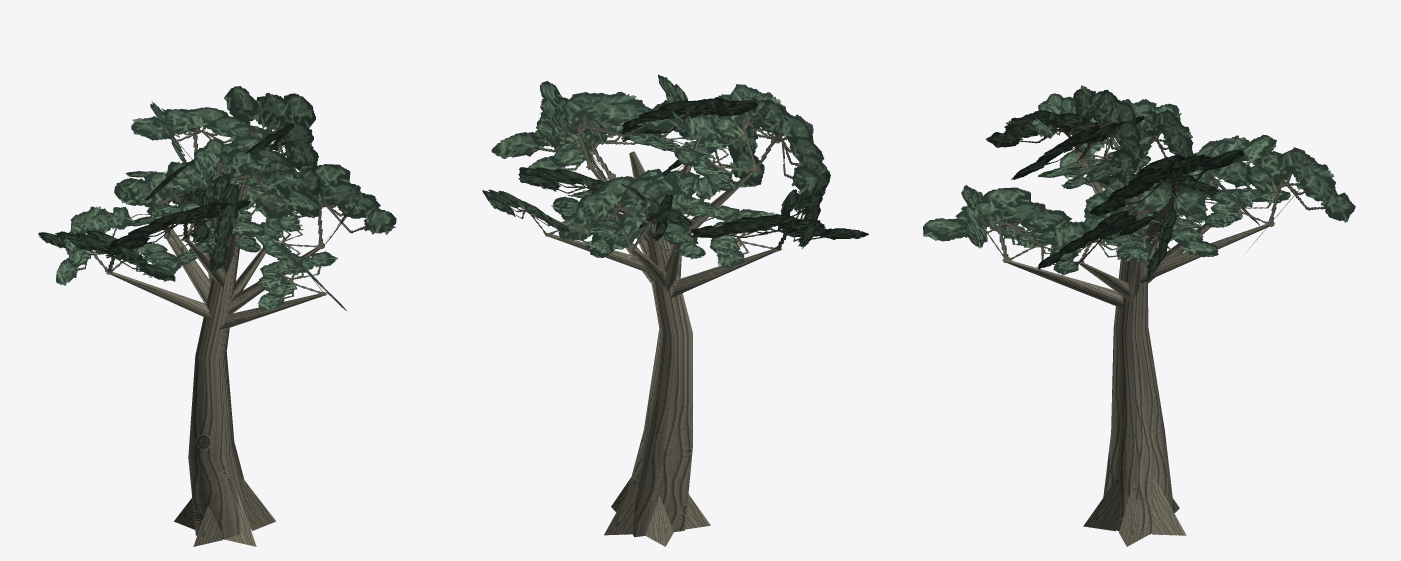
File: highland-stone-pine-mobile.glb
3 views of the same model, side by side, from view 1: azimuth 30°, elevation 25°; view 2: azimuth 150°, elevation 25°; view 3: azimuth 270°, elevation 25° (orthographic). The views are drawn at different scales.
Parts seen in each view (by area): view 1: Highland stone pine mobile v3 runtime; view 2: Highland stone pine mobile v3 runtime; view 3: Highland stone pine mobile v3 runtime.
Part boxes in pixels (<box>): Highland stone pine mobile v3 runtime: <box>38,86,396,546</box>; Highland stone pine mobile v3 runtime: <box>482,74,868,546</box>; Highland stone pine mobile v3 runtime: <box>923,85,1355,546</box>.
Bounding box in the file's own units: 7.43 × 8.6 × 7.86.
Materials: 1 (1 with a texture image).
